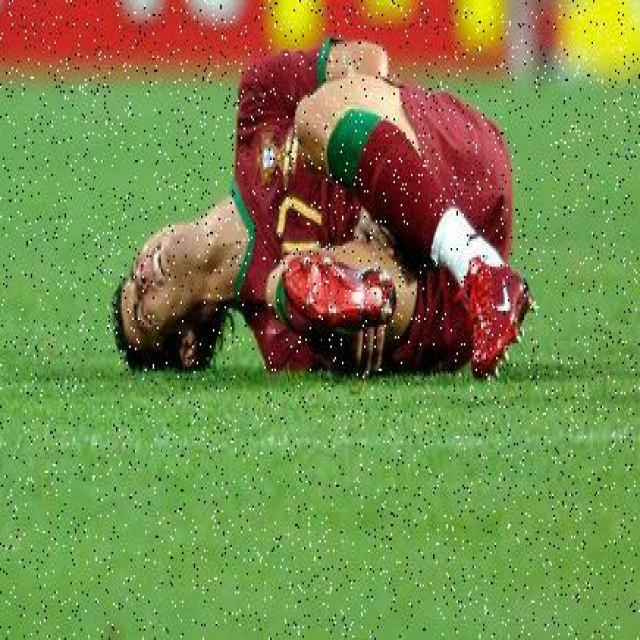fall: (116, 42, 525, 371)
